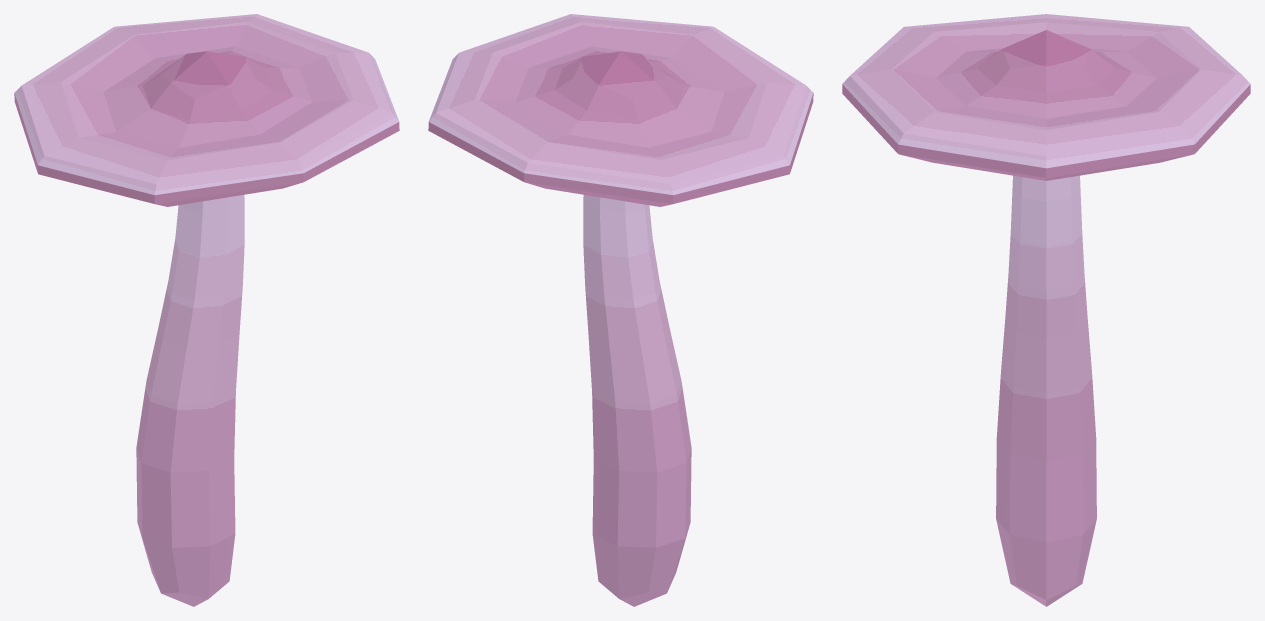
File: RosyBonnet_Large.glb
3 views of the same model, side by side, from view 1: azimuth 30°, elevation 25°; view 2: azimuth 150°, elevation 25°; view 3: azimuth 270°, elevation 25° (orthographic). The views are drawn at different scales.
Parts seen in each view (by area): view 1: Cube.003; view 2: Cube.003; view 3: Cube.003.
Boxes of the visible parts, x1,y1,x2,y2 form: Cube.003: (14,14,399,606); Cube.003: (428,14,813,606); Cube.003: (842,14,1250,606).
Bounding box in the file's own units: 5.41 × 8.46 × 5.36.
Materials: 1 (1 with a texture image).
